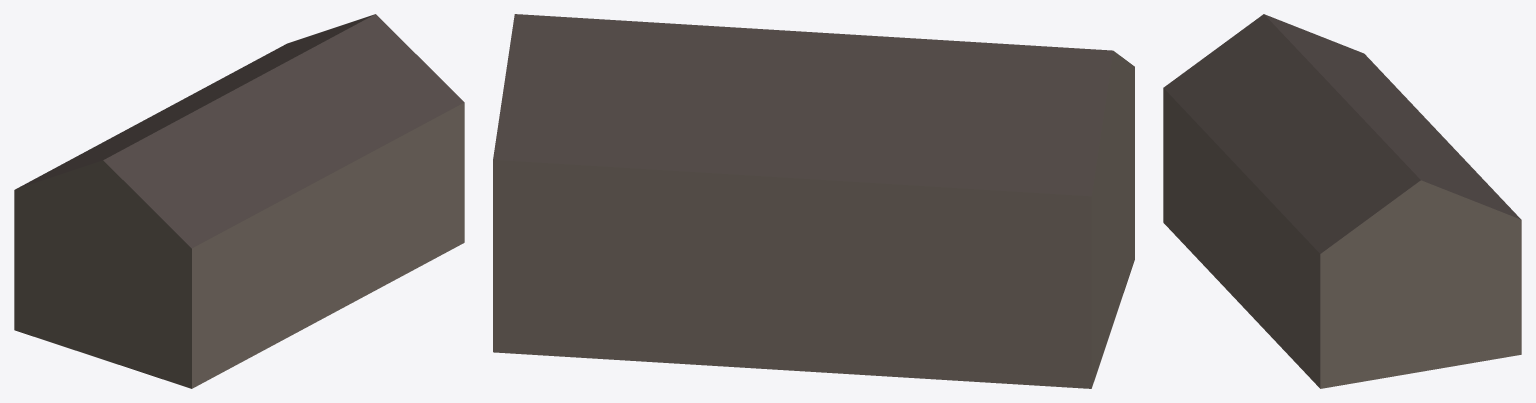
3 views of the same model, side by side, from view 1: azimuth 30°, elevation 25°; view 2: azimuth 150°, elevation 25°; view 3: azimuth 270°, elevation 25° (orthographic). The views are drawn at different scales.
Visible parts, largest first — view 1: HP-w1170499702; view 2: HP-w1170499702; view 3: HP-w1170499702.
Part boxes in pixels (x1,y1,x2,y2): HP-w1170499702: [14, 14, 464, 388]; HP-w1170499702: [493, 14, 1134, 388]; HP-w1170499702: [1163, 14, 1521, 388].
Size of the model in its own units: 28.68 by 12.79 by 21.65.
